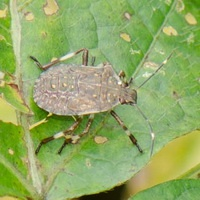insect: (30, 48, 136, 115)
